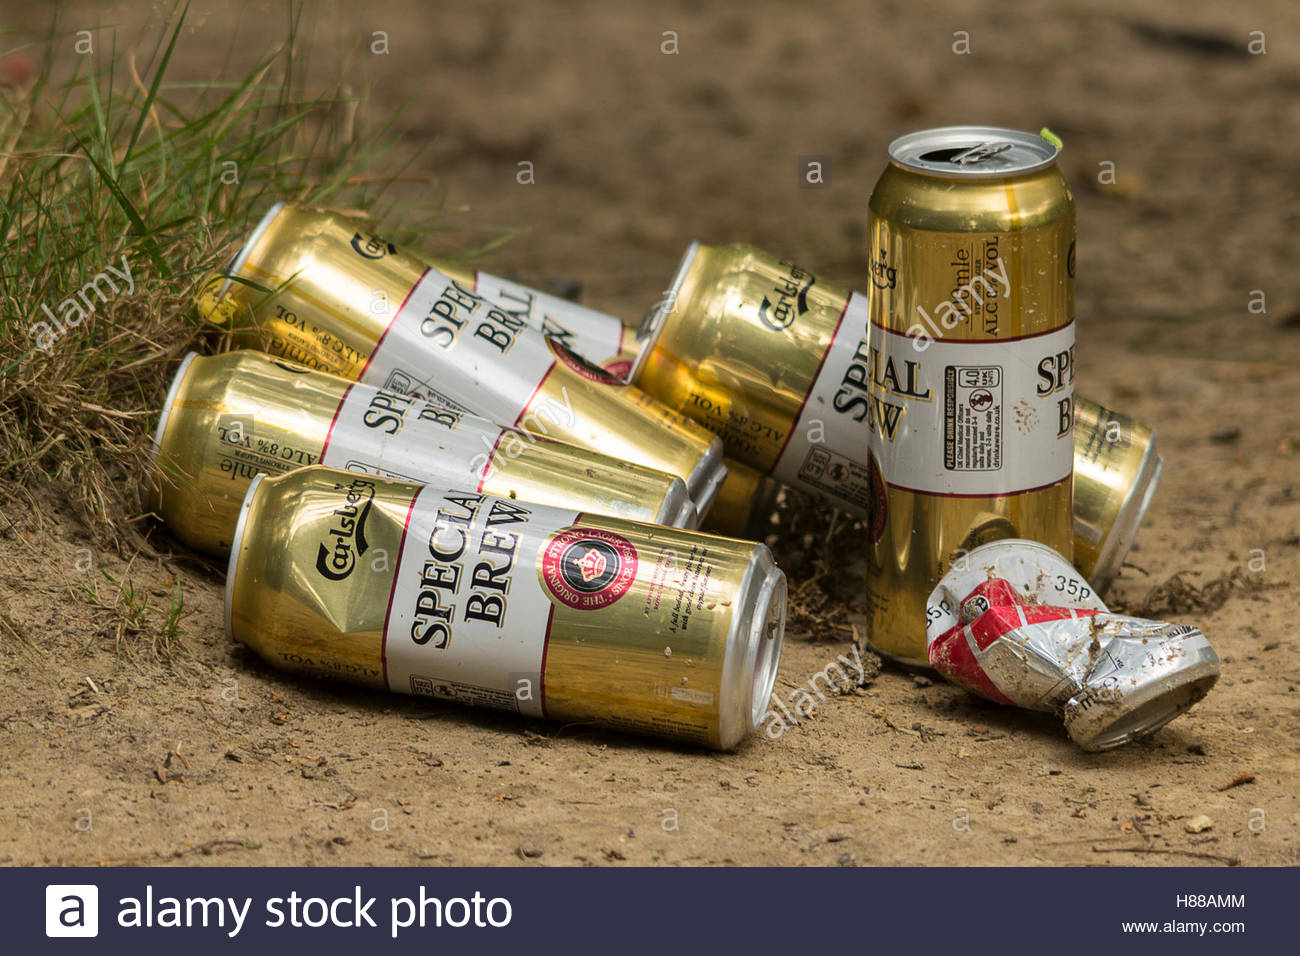can: (636, 239, 1160, 606), (219, 460, 801, 777), (216, 202, 726, 517), (156, 349, 703, 586), (877, 97, 1090, 692), (928, 541, 1220, 751)
